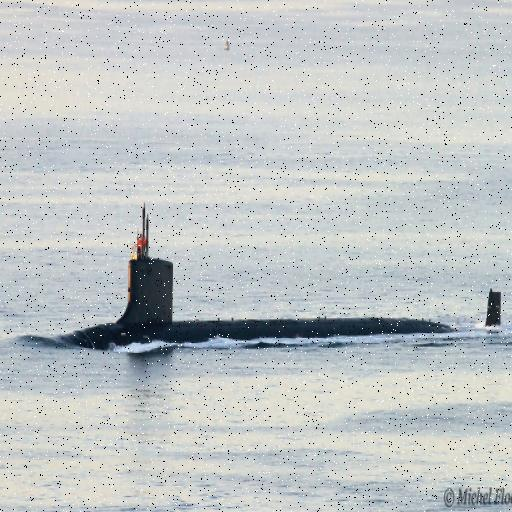submarine: (43, 197, 510, 328)
